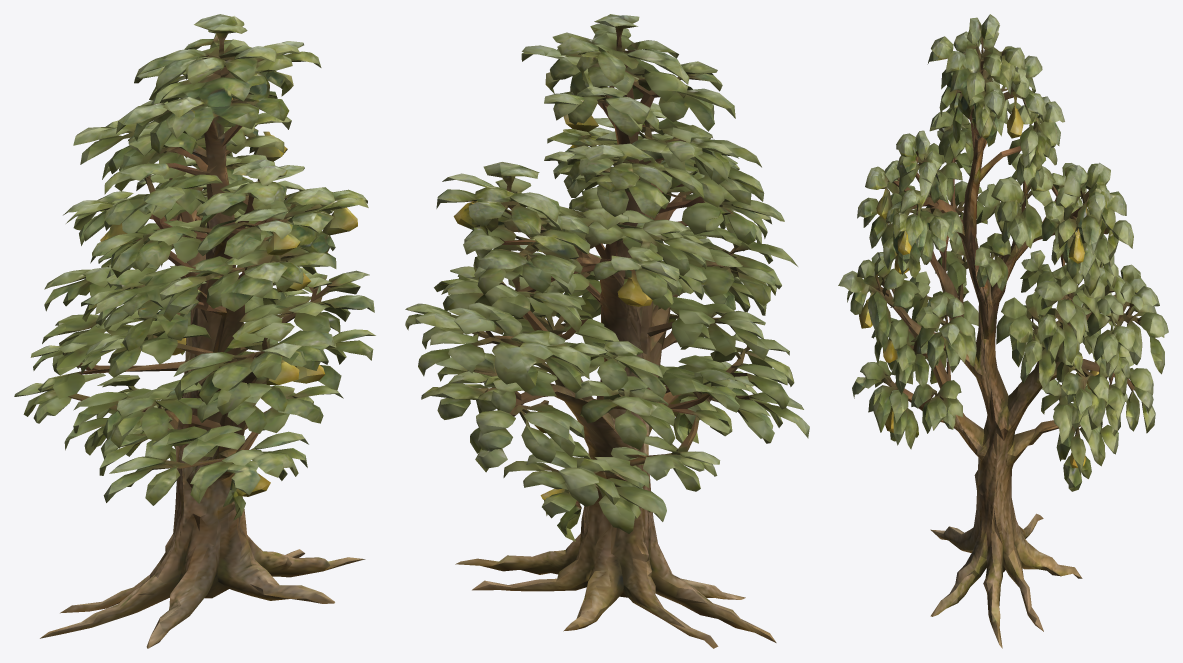
File: pear_tree.glb
The picture shows the model from 3 angles, left to right: view 1: azimuth 30°, elevation 25°; view 2: azimuth 150°, elevation 25°; view 3: azimuth 270°, elevation 25°; orthographic projection. The views are drawn at different scales.
Visible parts, largest first — view 1: tripo_node_52aa248a-2151-402f-a738-012afca3c8a8; view 2: tripo_node_52aa248a-2151-402f-a738-012afca3c8a8; view 3: tripo_node_52aa248a-2151-402f-a738-012afca3c8a8.
Part boxes in pixels (bbox=[...]): tripo_node_52aa248a-2151-402f-a738-012afca3c8a8: bbox=[14, 14, 375, 648]; tripo_node_52aa248a-2151-402f-a738-012afca3c8a8: bbox=[405, 14, 809, 648]; tripo_node_52aa248a-2151-402f-a738-012afca3c8a8: bbox=[838, 14, 1168, 648].
Size of the model in its own units: 3.78 by 6.5 by 3.5.
1 material, 1 textured.
